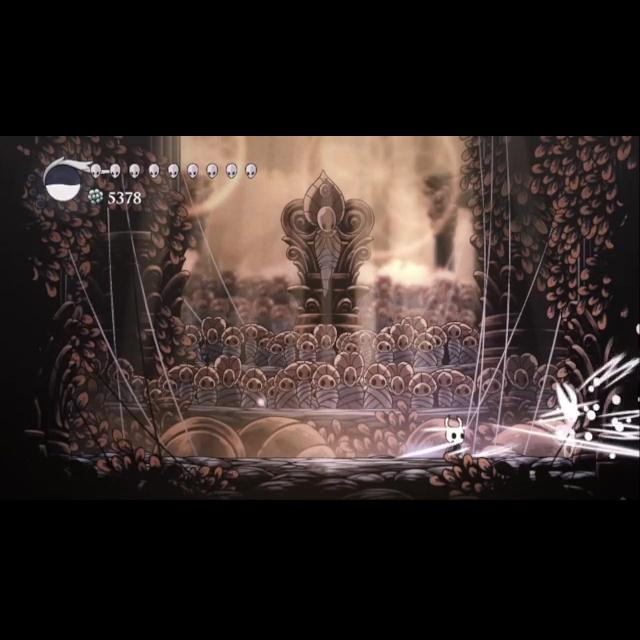EnemyDamaged: (538, 378, 590, 462)
Player: (434, 411, 474, 462)
